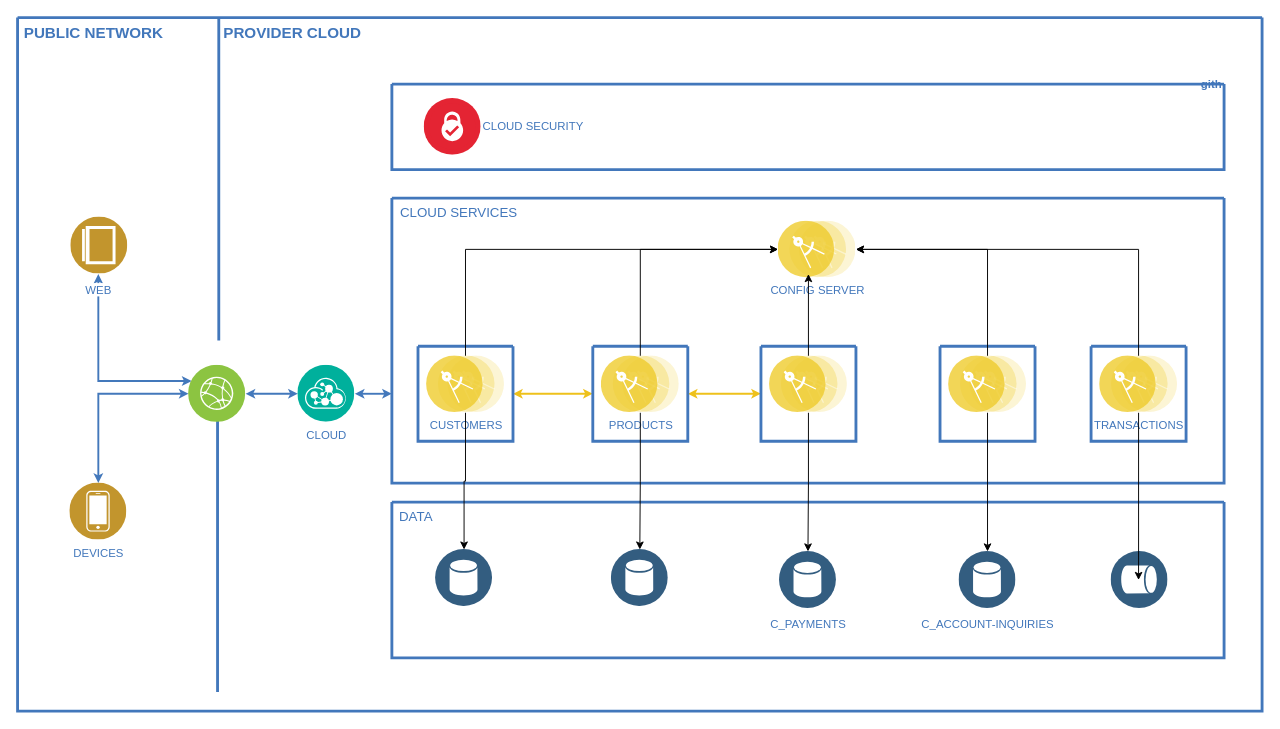
This 1280x729 diagram has some shape labels left out. Here are the shapes that lost their labels. From the top down, the centre of each, then its label:
At pixel 216 393: "EDGE SERVICES".
At pixel 808 383: "PAYMENTS".
At pixel 987 383: "ACCOUNT INQUIRIES".
At pixel 463 577: "C_CUSTOMERS".
At pixel 639 577: "C_PRODUCTS".
At pixel 1138 579: "C_TRANSACTIONS".
